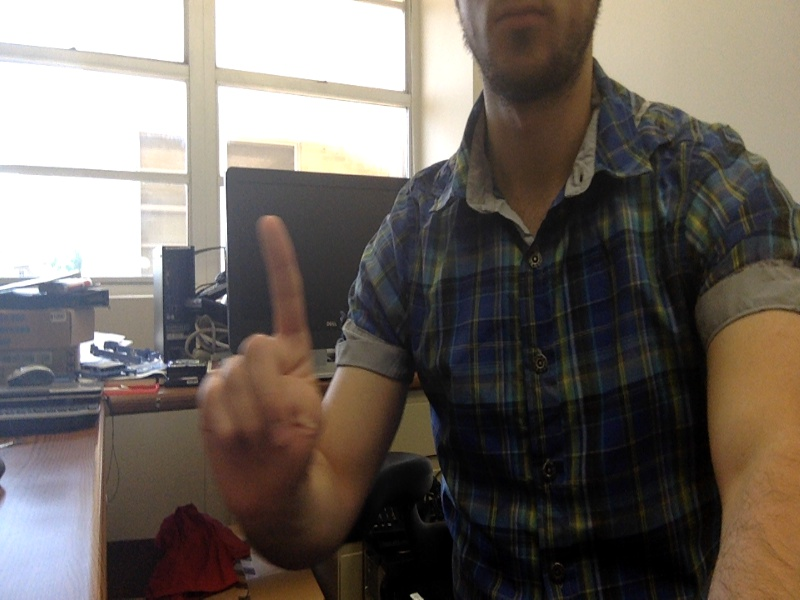1-hand: (195, 212, 325, 535)
